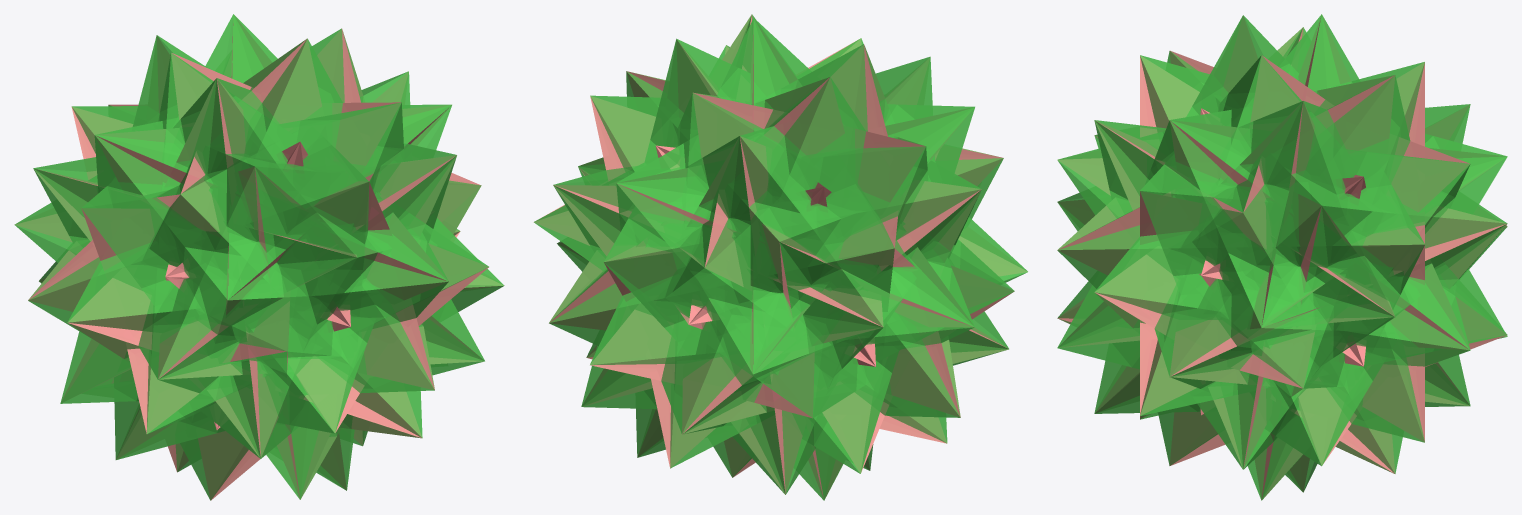
File: 39_Dodekexcavated_Gisid.obj
3 renders of one model, left to right at view 1: azimuth 30°, elevation 25°; view 2: azimuth 150°, elevation 25°; view 3: azimuth 270°, elevation 25°, orthographic.
Bounding box in the file's own units: 1.27 × 1.27 × 1.18.
